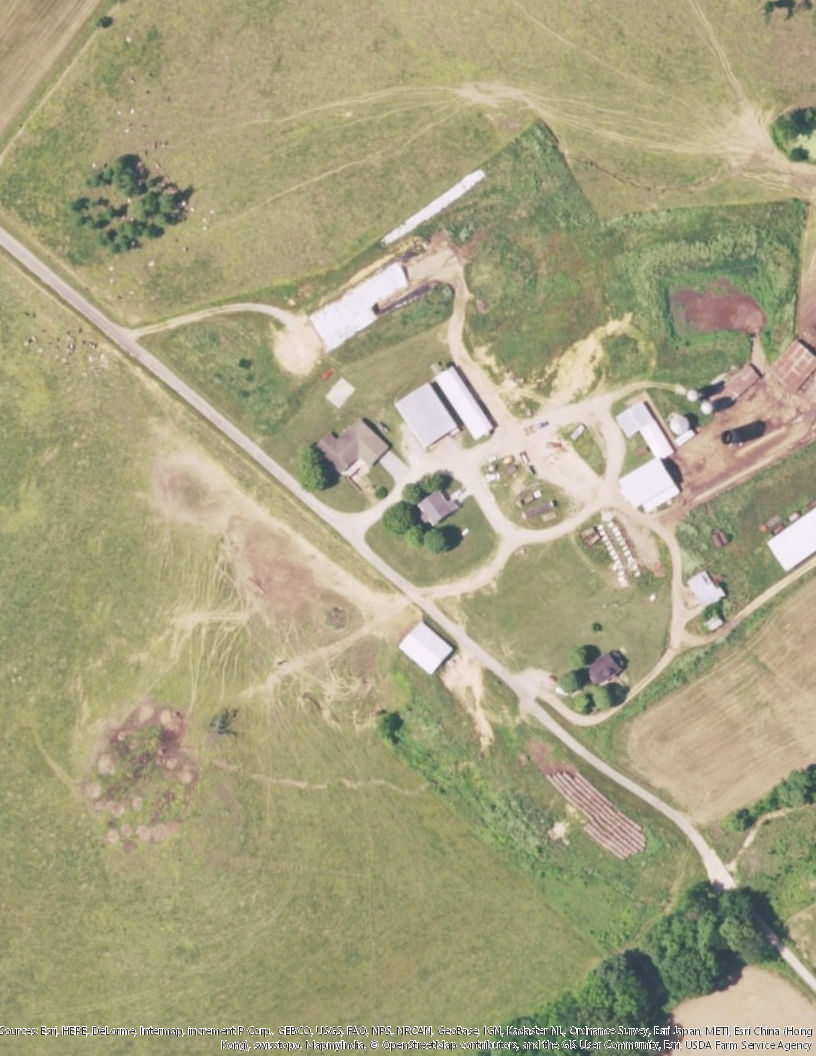cafo: (433, 362, 500, 445), (393, 382, 463, 448), (394, 618, 459, 678), (762, 505, 816, 577)
